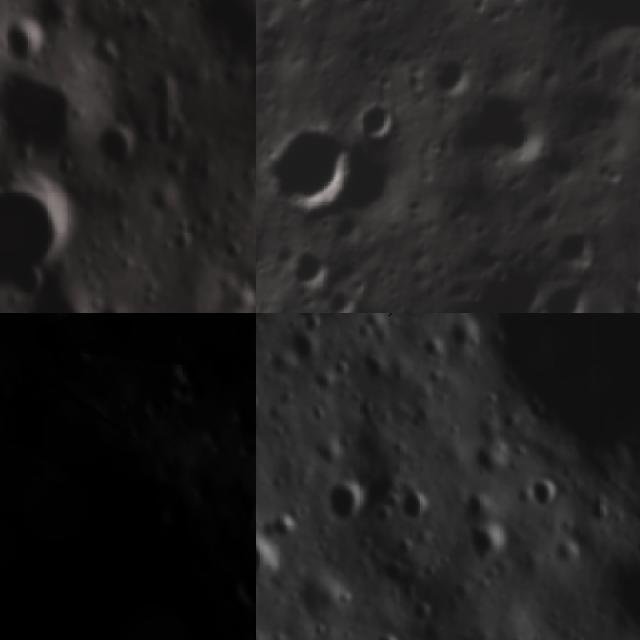crater: (0, 464, 235, 640), (474, 313, 640, 448), (445, 76, 559, 188), (262, 118, 371, 228), (0, 182, 73, 291), (0, 72, 86, 163), (542, 0, 640, 73), (194, 0, 256, 81), (548, 217, 610, 281), (280, 246, 341, 300), (349, 91, 406, 146), (528, 271, 599, 313), (427, 48, 478, 106), (3, 282, 97, 313), (0, 13, 52, 65), (322, 473, 371, 527), (165, 350, 214, 400), (464, 518, 510, 568), (609, 564, 640, 635), (94, 128, 138, 178), (397, 482, 434, 530), (160, 494, 197, 535), (256, 528, 277, 597), (227, 563, 256, 611), (320, 282, 361, 313), (197, 417, 231, 453), (525, 477, 559, 512), (595, 158, 630, 190), (80, 334, 108, 370), (229, 395, 256, 430), (268, 516, 300, 541), (461, 494, 493, 518), (278, 0, 326, 14), (243, 495, 256, 528), (226, 626, 256, 640), (118, 397, 135, 418)
